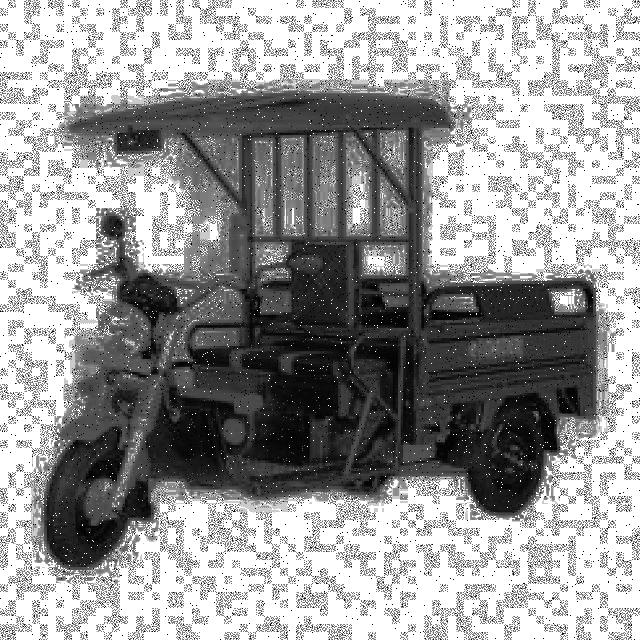Toto: (24, 71, 416, 591)
